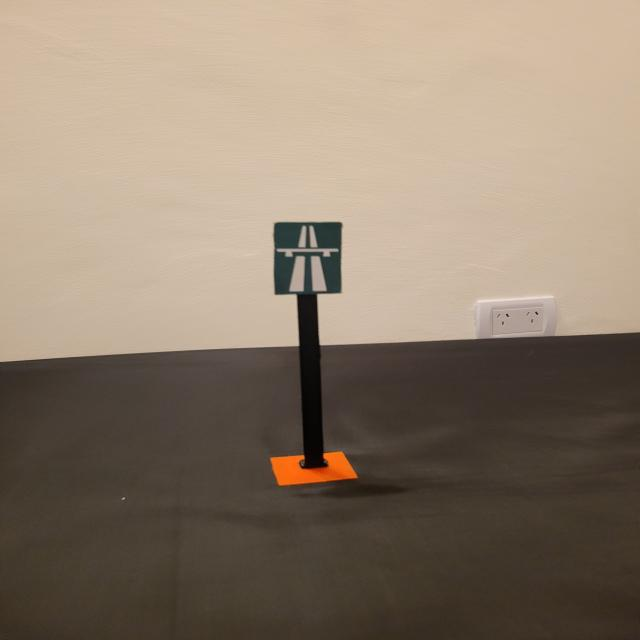highway_entrance: (274, 220, 344, 294)
